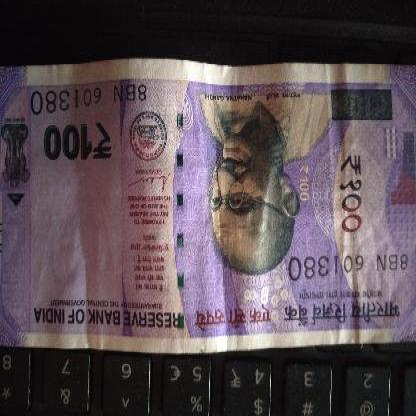New100Front: (0, 66, 415, 348)
